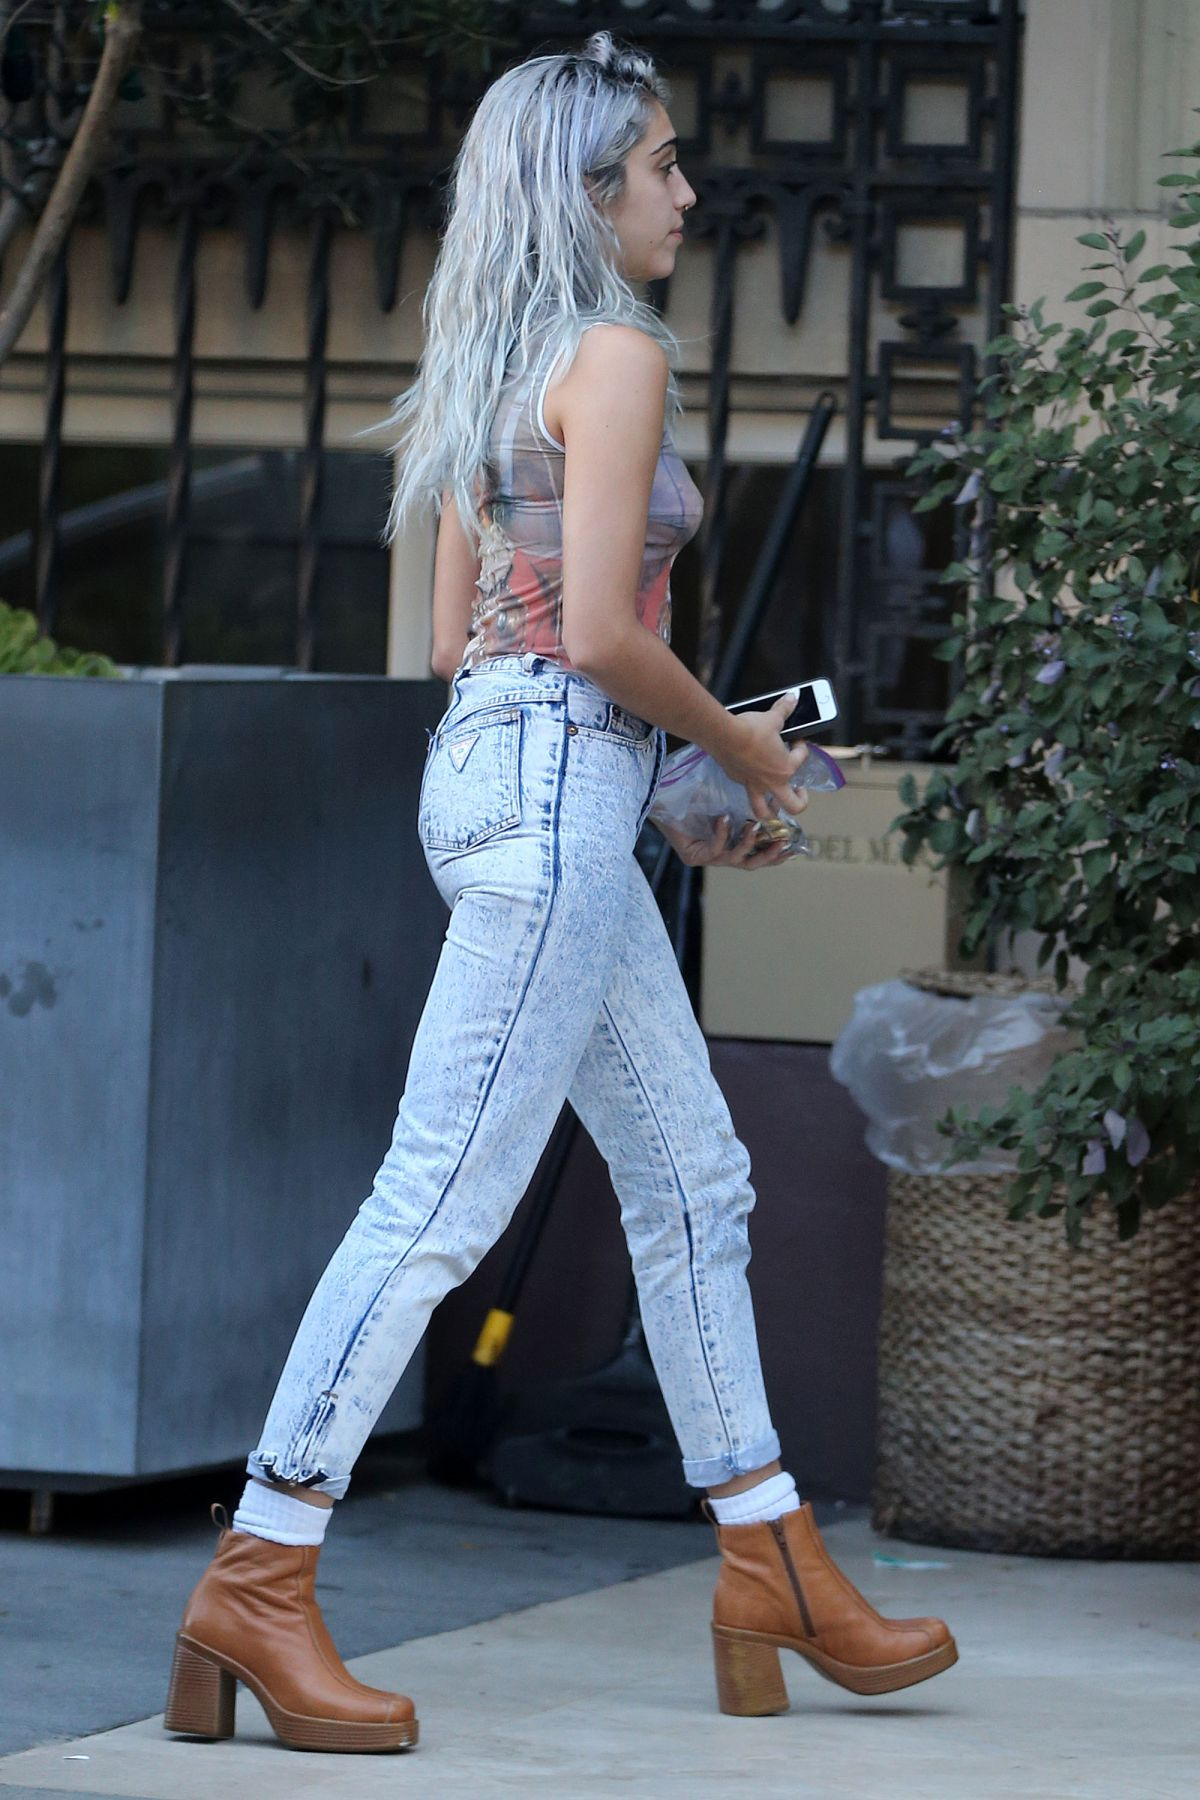Person: (125, 44, 995, 1750)
